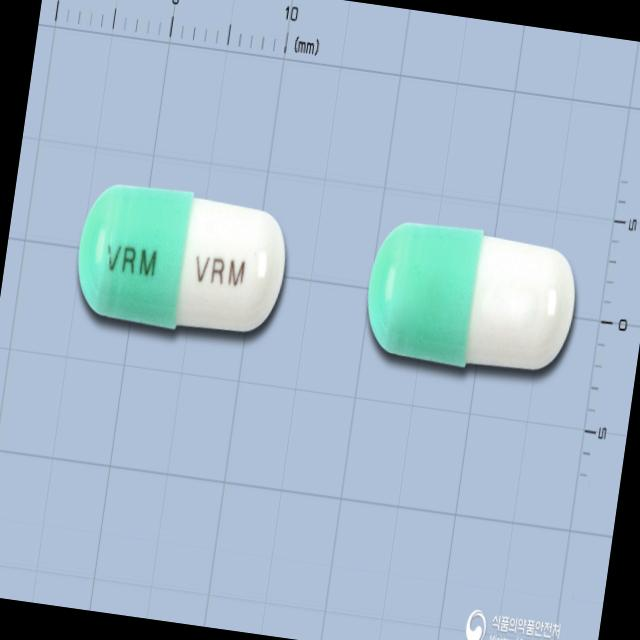Viramid Cap: (69, 175, 296, 348)
